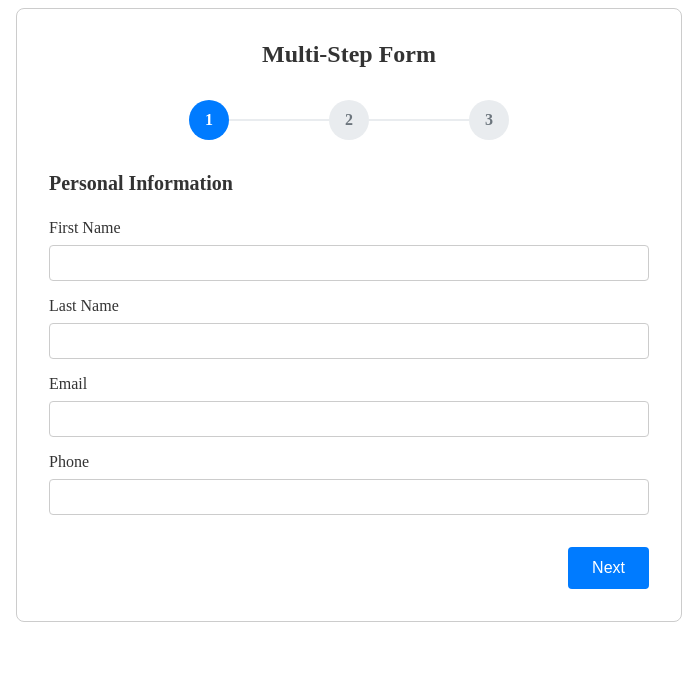
Test: MultiStepForm Component › Step 1 - Personal Information › should show validation error when email is empty
Step 1. Type "John" into the field with test id "input-firstName" → (349, 263), box [49,245,649,281]
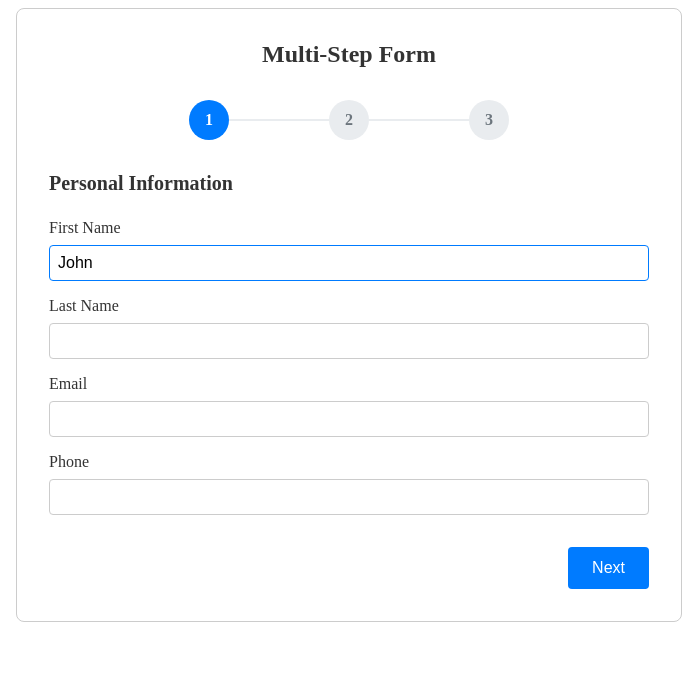
Step 2. Type "Doe" into the field with test id "input-lastName" → (349, 341), box [49,323,649,359]
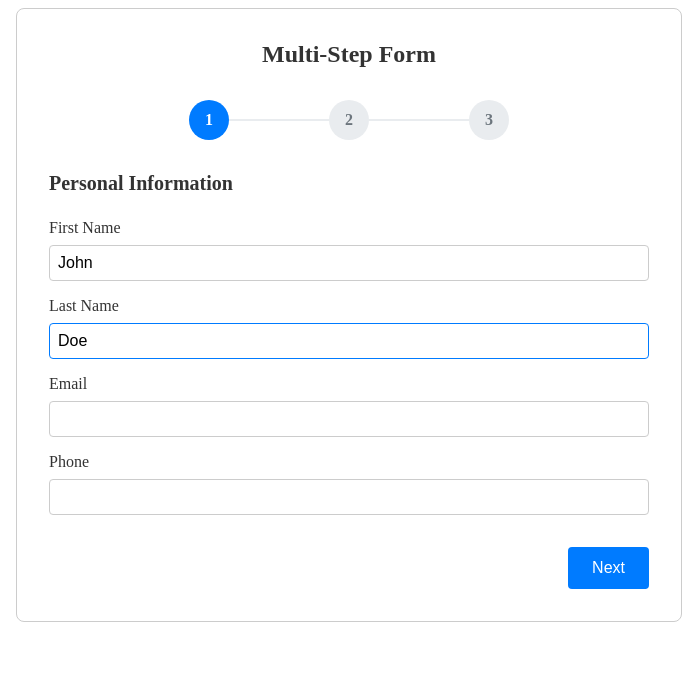
Step 3. Click the button with test id "form-next" → click(609, 568), box [568,547,649,589]
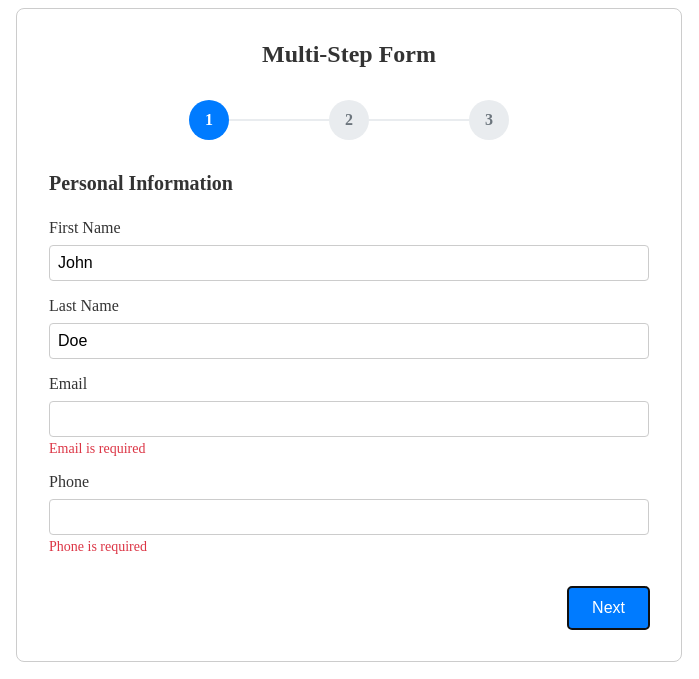
Now the text with test id "error-email" reads "Email is required", box [49,441,145,456]
